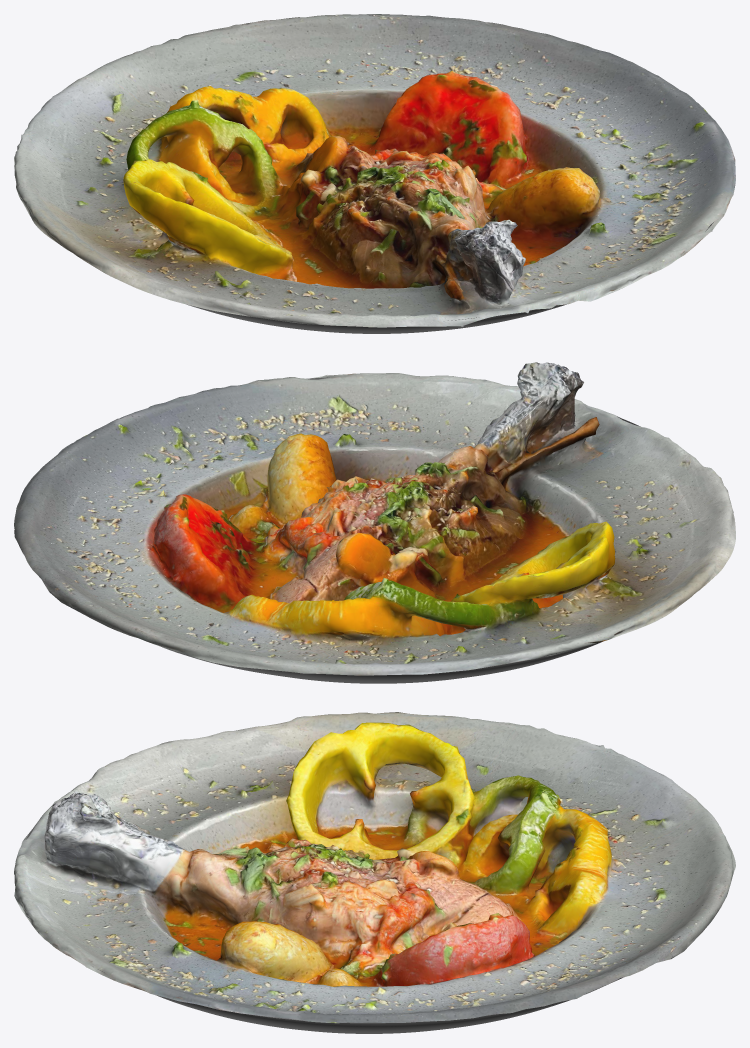
Rendered from lamb-shank.glb.
The picture shows the model from 3 angles, top to bottom: view 1: azimuth 30°, elevation 25°; view 2: azimuth 150°, elevation 25°; view 3: azimuth 270°, elevation 25°; orthographic projection.
Visible parts, largest first — view 1: baked_mesh, baked_mesh.001; view 2: baked_mesh, baked_mesh.001; view 3: baked_mesh, baked_mesh.001.
Part boxes in pixels (box(x1,y1,x2,y2)): baked_mesh: box(14, 14, 735, 327); baked_mesh.001: box(187, 113, 713, 333); baked_mesh: box(14, 362, 735, 675); baked_mesh.001: box(161, 377, 640, 683); baked_mesh: box(14, 712, 735, 1023); baked_mesh.001: box(26, 823, 623, 1033).
Size of the model in its own units: 0.9236 by 0.1721 by 0.9256.
2 materials, 1 textured.
